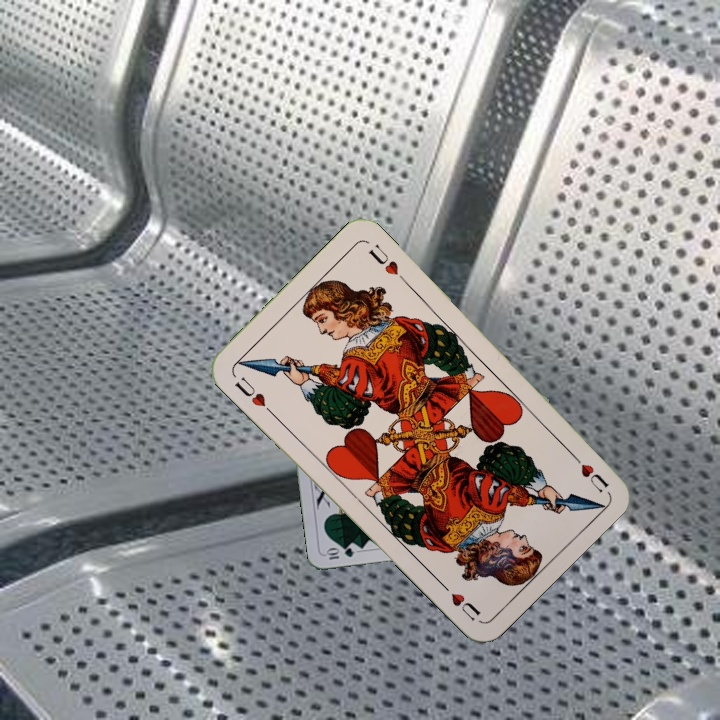G10: (322, 544, 357, 562)
HU: (565, 446, 612, 496), (230, 372, 276, 417)
